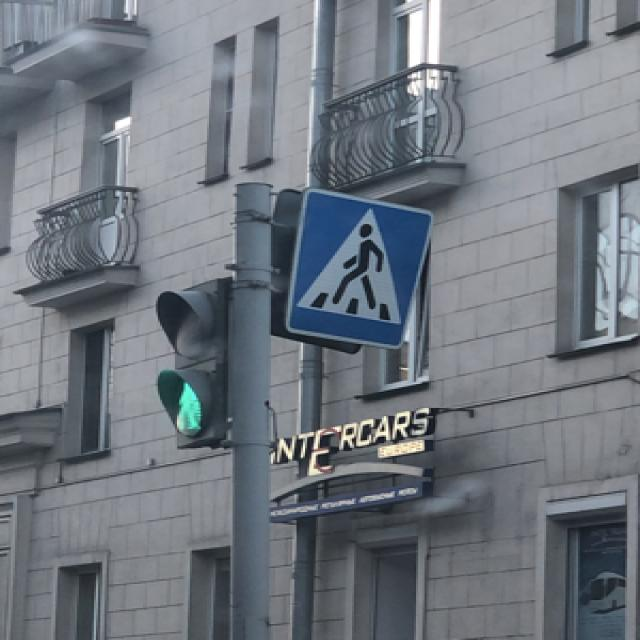crosswalk: (284, 186, 435, 347)
trafficlight: (154, 274, 232, 446)
